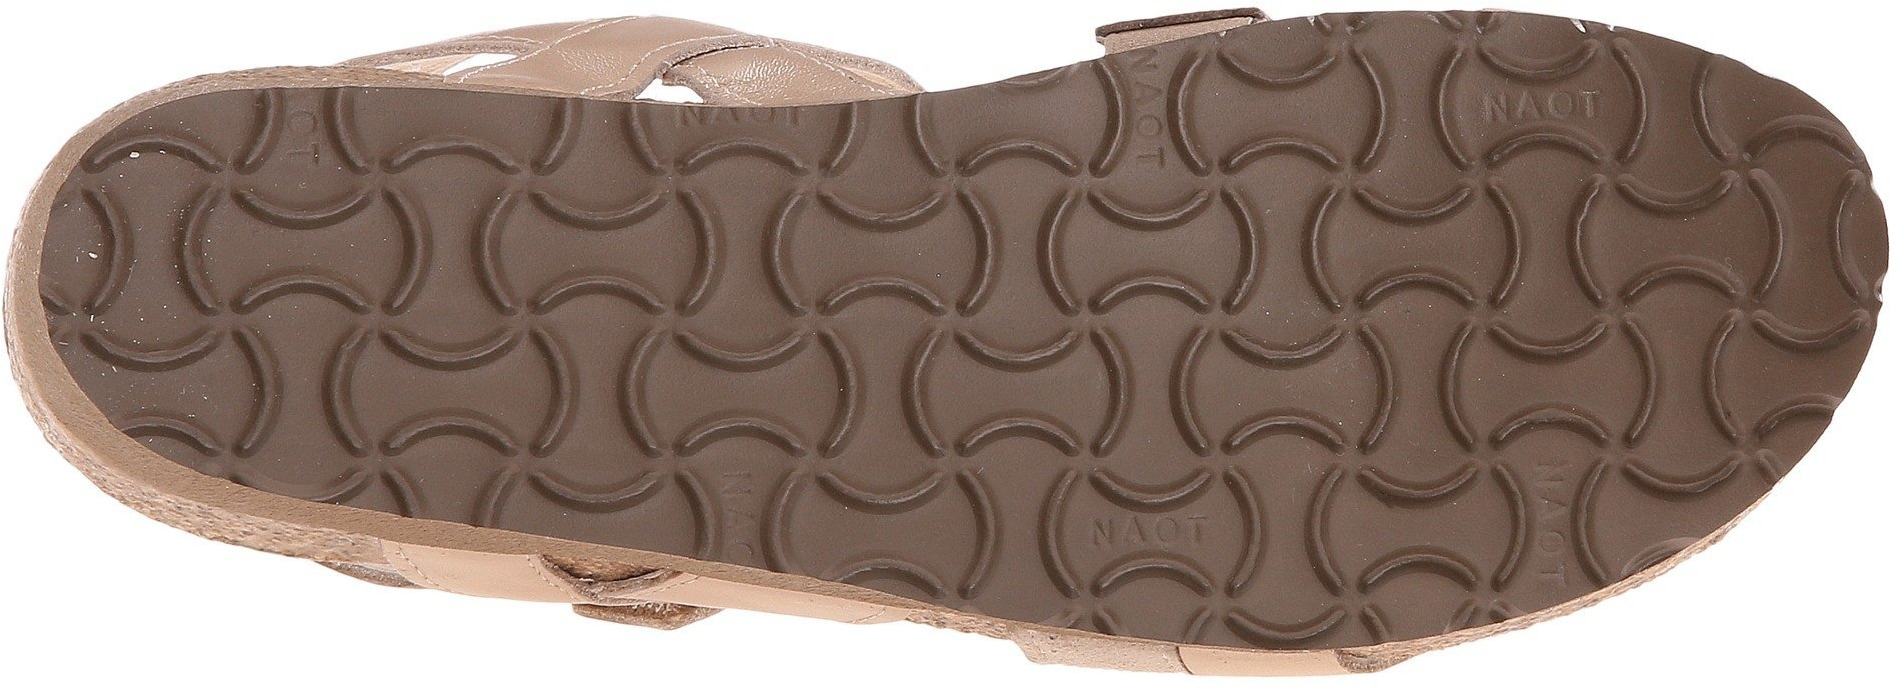bowtie: (1258, 54, 1618, 398), (904, 113, 1239, 415), (602, 277, 884, 534), (82, 172, 335, 441), (1621, 130, 1843, 378), (371, 146, 592, 379), (1069, 421, 1293, 636), (1322, 415, 1533, 620), (615, 111, 803, 287)
